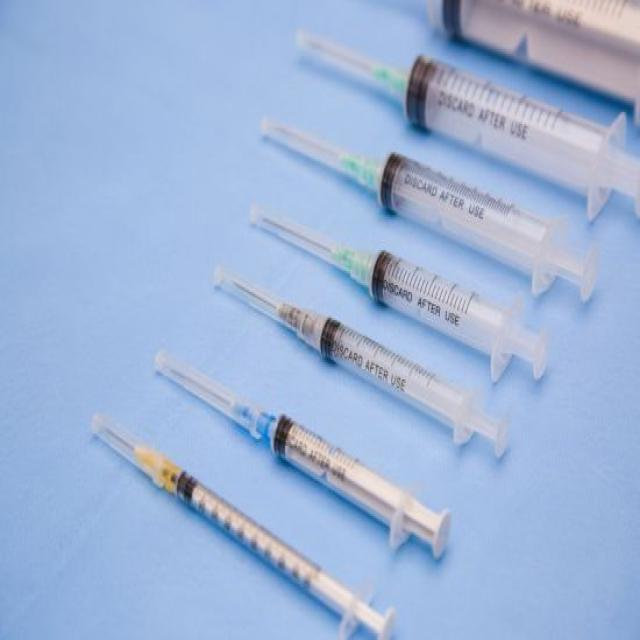B3: (134, 340, 471, 582), (55, 404, 398, 640), (273, 9, 640, 224), (240, 101, 638, 292), (185, 260, 529, 474), (233, 201, 605, 390)
